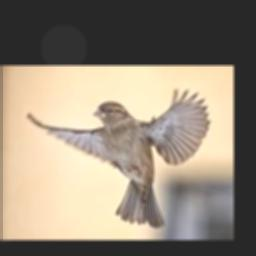Sparrow: (27, 87, 210, 227)
